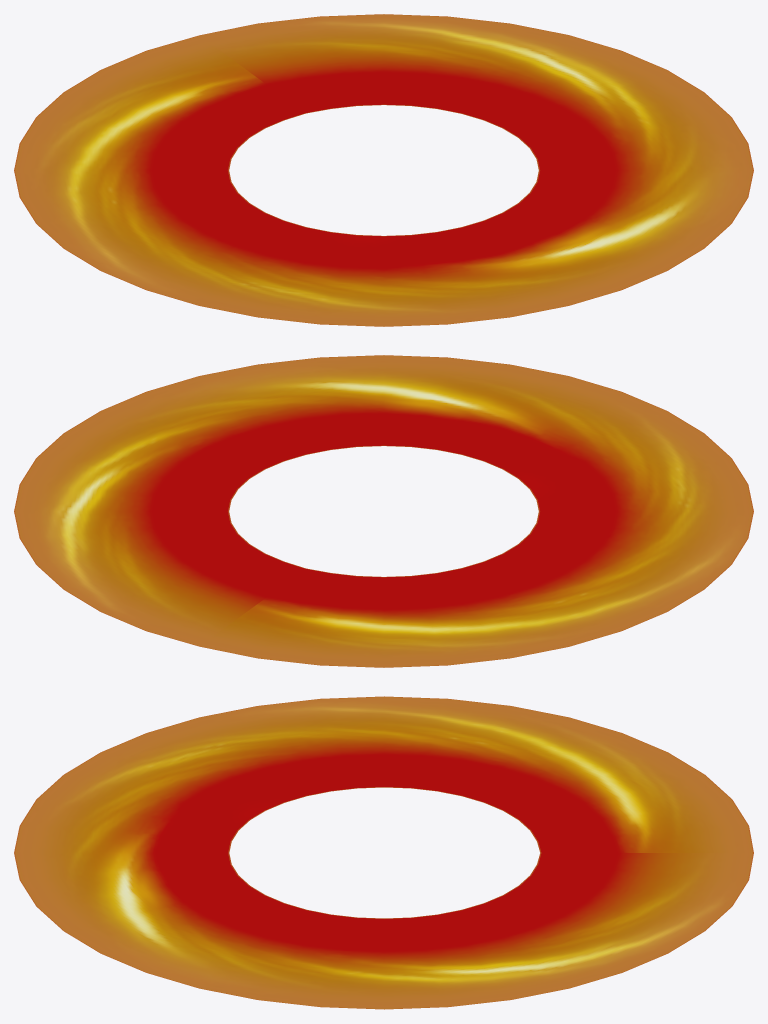
Rendered from TX_daoguang03.FBX.
3 renders of one model, top to bottom at view 1: azimuth 30°, elevation 25°; view 2: azimuth 150°, elevation 25°; view 3: azimuth 270°, elevation 25°, orthographic.
Visible parts, largest first — view 1: TX_daoguang03; view 2: TX_daoguang03; view 3: TX_daoguang03.
Boxes of the visible parts, x1=… form: TX_daoguang03: x1=14, y1=14, x2=753, y2=326; TX_daoguang03: x1=14, y1=355, x2=753, y2=667; TX_daoguang03: x1=14, y1=696, x2=753, y2=1009.
Size of the model in its own units: 41.36 by 5.13e-06 by 41.32.
